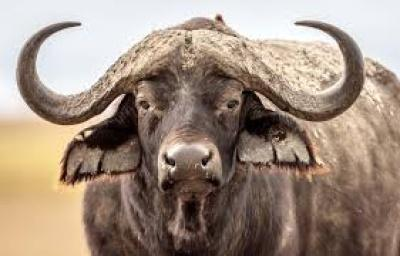buffalo: (15, 13, 400, 256)
